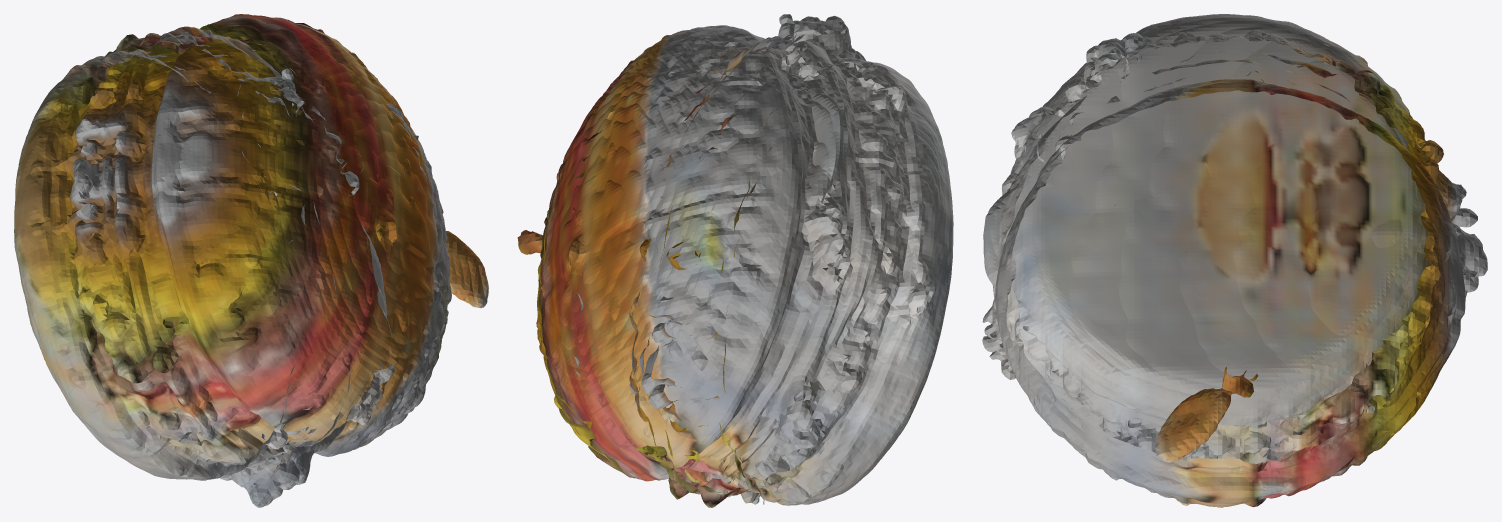
The model's file is model_sync.glb.
3 views of the same model, side by side, from view 1: azimuth 30°, elevation 25°; view 2: azimuth 150°, elevation 25°; view 3: azimuth 270°, elevation 25° (orthographic). The views are drawn at different scales.
Visible parts, largest first — view 1: world; view 2: world; view 3: world.
Part boxes in pixels (x1,y1,x2,y2): world: [14, 14, 488, 507]; world: [517, 14, 953, 507]; world: [982, 14, 1487, 507].
Bounding box in the file's own units: 0.6413 × 0.7595 × 0.7796.
